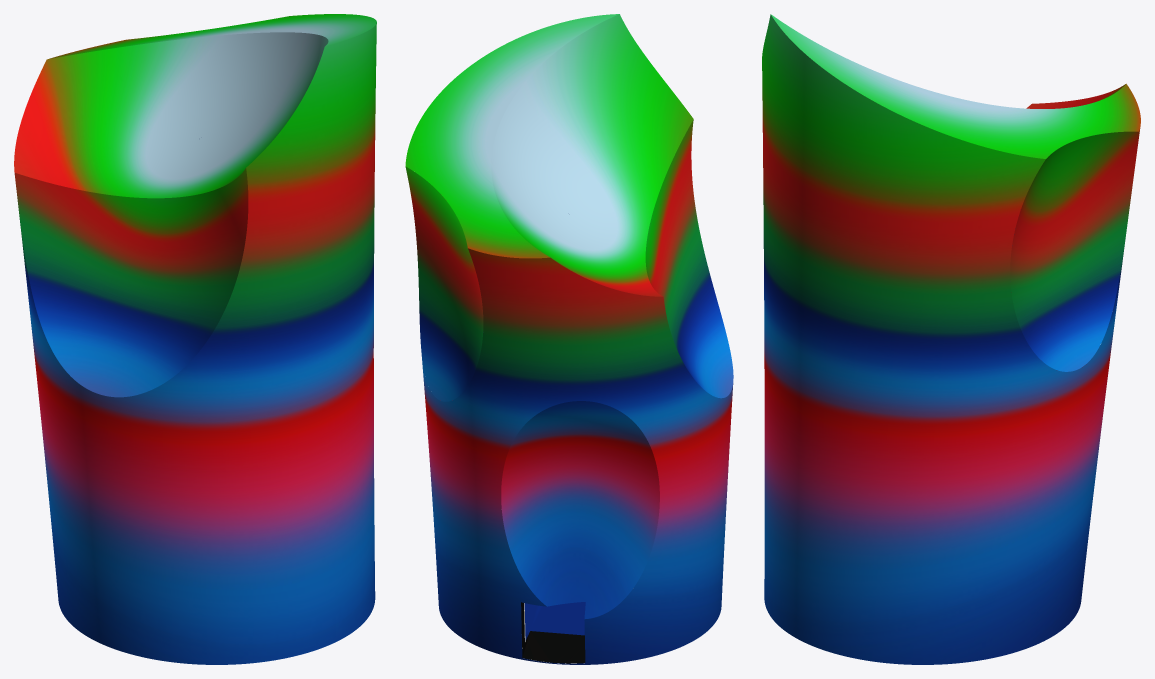
3 views of the same model, side by side, from view 1: azimuth 30°, elevation 25°; view 2: azimuth 150°, elevation 25°; view 3: azimuth 270°, elevation 25° (orthographic). The views are drawn at different scales.
Parts seen in each view (by area): view 1: Solids; view 2: Solids, Frames, Solids_2; view 3: Solids.
Part boxes in pixels (<box>): Solids: <box>14,14,376,664</box>; Solids: <box>405,14,733,664</box>; Frames: <box>521,602,585,663</box>; Solids_2: <box>524,602,585,640</box>; Solids: <box>762,14,1140,664</box>.
Size of the model in its own units: 19.82 by 36.72 by 21.03.
Materials: 3 (3 with a texture image).
